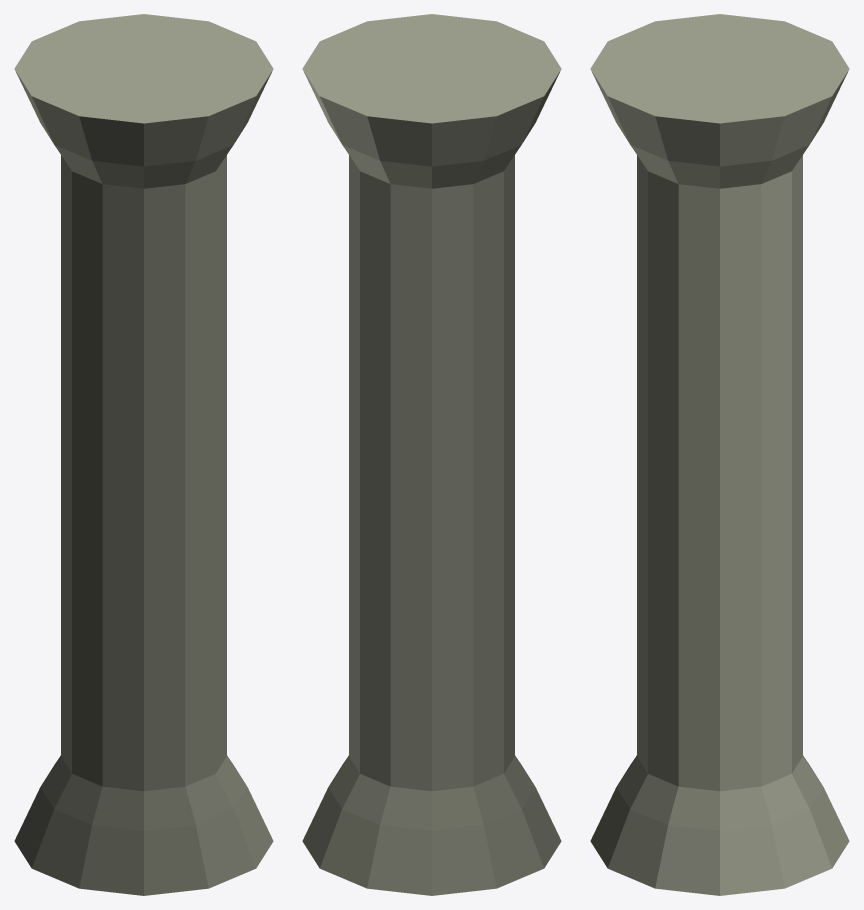
The picture shows the model from 3 angles, left to right: view 1: azimuth 30°, elevation 25°; view 2: azimuth 150°, elevation 25°; view 3: azimuth 270°, elevation 25°; orthographic projection.
Visible parts, largest first — view 1: 6ea6efafb641b3eef7720949e1c0e24b140efbdacba7d97f02c7c49c76c7; view 2: 6ea6efafb641b3eef7720949e1c0e24b140efbdacba7d97f02c7c49c76c7; view 3: 6ea6efafb641b3eef7720949e1c0e24b140efbdacba7d97f02c7c49c76c7.
Boxes of the visible parts, x1,y1,x2,y2 form: 6ea6efafb641b3eef7720949e1c0e24b140efbdacba7d97f02c7c49c76c7: (14, 14, 273, 895); 6ea6efafb641b3eef7720949e1c0e24b140efbdacba7d97f02c7c49c76c7: (302, 14, 561, 895); 6ea6efafb641b3eef7720949e1c0e24b140efbdacba7d97f02c7c49c76c7: (590, 14, 849, 895).
Bounding box in the file's own units: 0.9125 × 3 × 0.9125.
